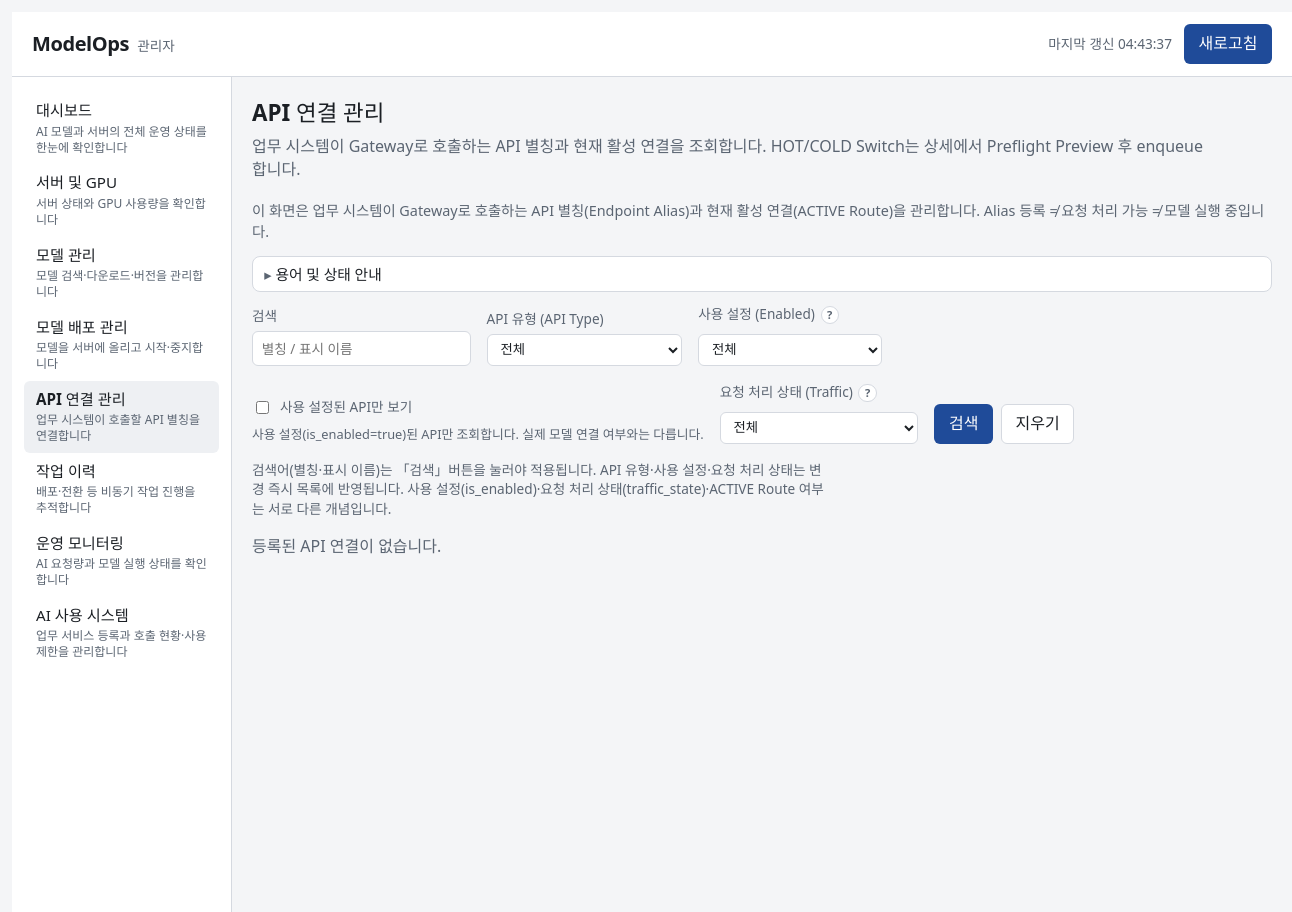
Test case: EndpointsPage › defaults to full list and filters with 사용 설정된 API만 보기
Expected: the text "사용 설정된 API만 보기" is shown, [280,397,412,417]
Expected: the text "사용 설정(is_enabled=true)된 API만 조회합니다. 실제 모델 연결 여부와는 다릅니다." is shown, [252,425,704,444]
Click the checkbox with test id "endpoint-enabled-only" at (262, 407), box [256,400,269,414]
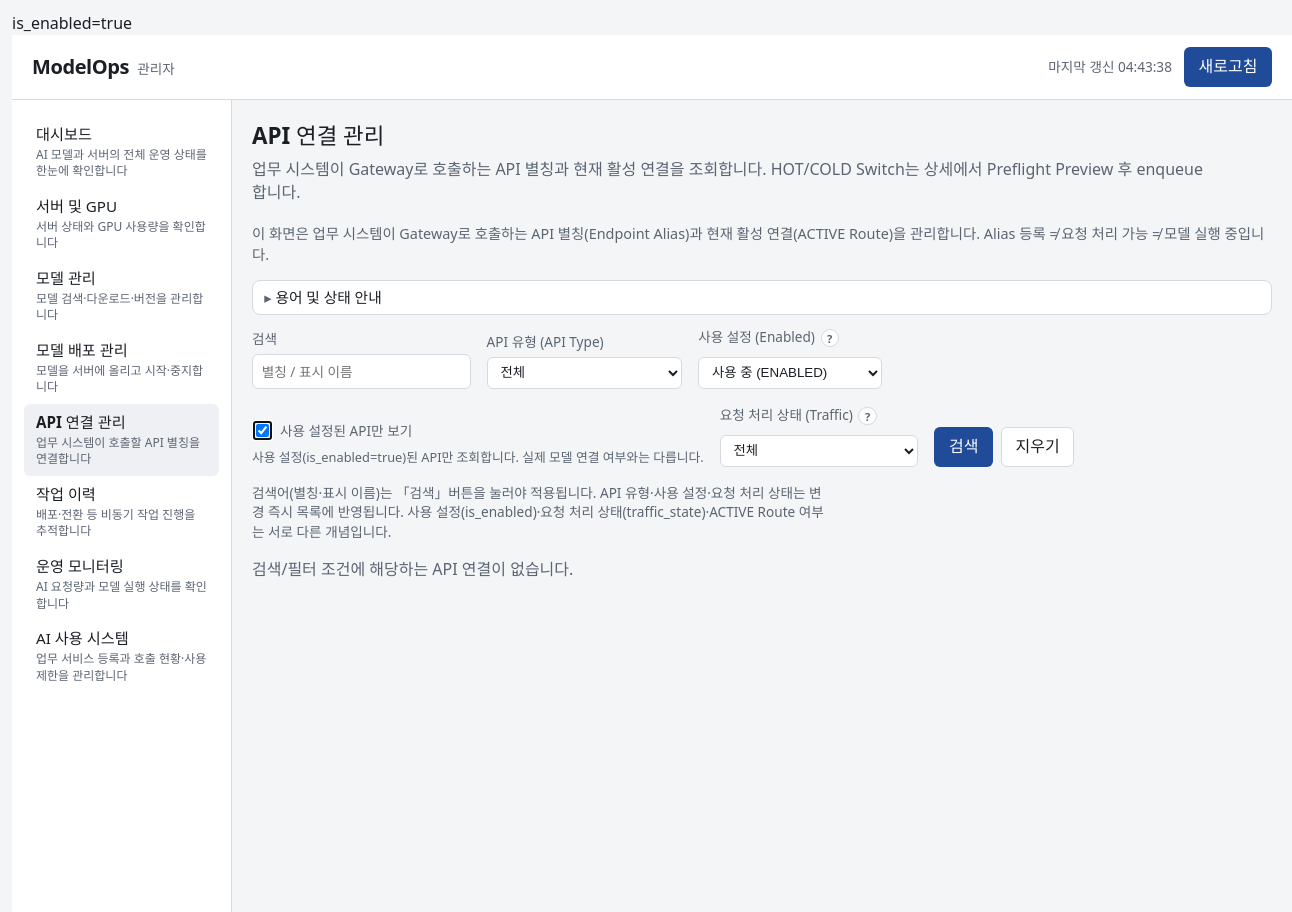
Expected: the text with test id "location-search" reads "is_enabled=true", [12,12,132,34]
